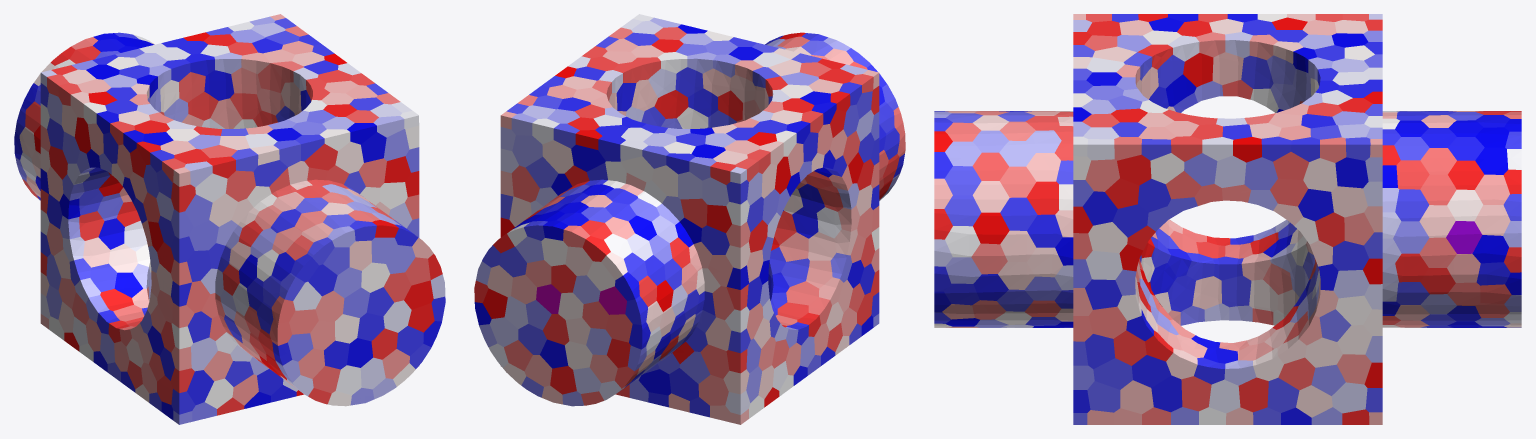
The model's file is Ours_1000_block_Iter56_RVD.obj.
The picture shows the model from 3 angles, left to right: view 1: azimuth 30°, elevation 25°; view 2: azimuth 150°, elevation 25°; view 3: azimuth 270°, elevation 25°; orthographic projection. The views are drawn at different scales.
Visible parts, largest first — view 1: 3D_Object; view 2: 3D_Object; view 3: 3D_Object.
Part boxes in pixels (x1=…): 3D_Object: x1=14, y1=14, x2=445, y2=424; 3D_Object: x1=474, y1=14, x2=905, y2=424; 3D_Object: x1=934, y1=14, x2=1521, y2=424.
Bounding box in the file's own units: 20 × 20 × 38.
Materials: 1 (1 with a texture image).
